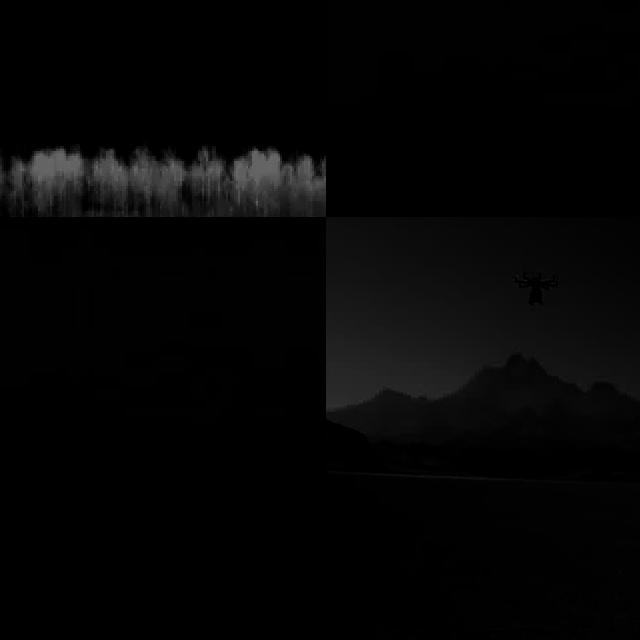drone: (513, 259, 558, 310)
